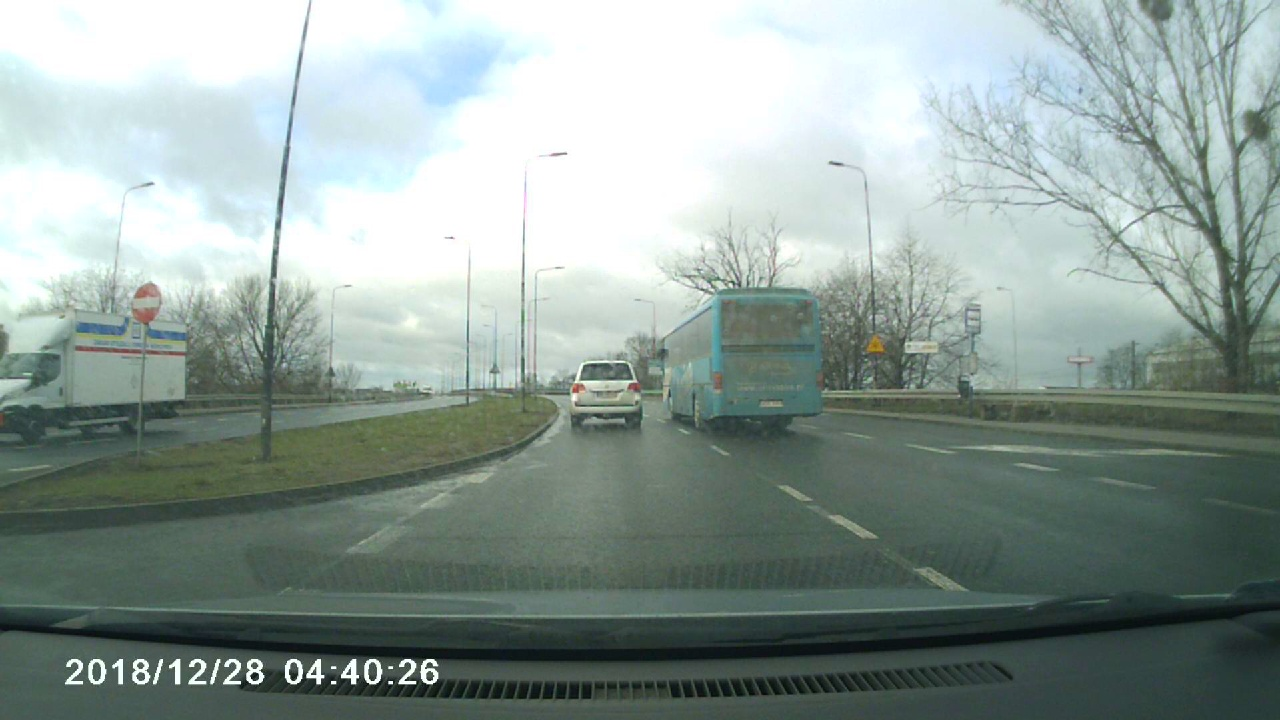B2: (127, 281, 166, 324)
